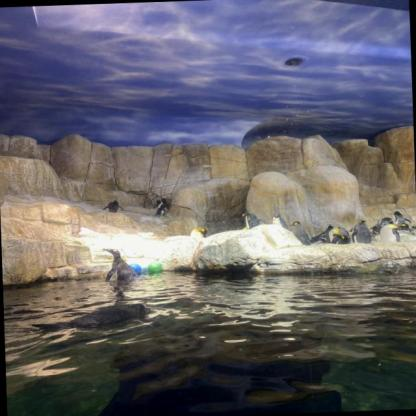penguin: (32, 302, 152, 338), (102, 247, 136, 283), (378, 222, 412, 243), (240, 210, 266, 230), (290, 220, 309, 244), (351, 220, 370, 244), (372, 216, 394, 235), (152, 197, 170, 216), (307, 230, 329, 244), (336, 223, 350, 244), (394, 210, 410, 226), (323, 223, 335, 244), (104, 200, 122, 213), (272, 212, 286, 228), (190, 226, 208, 238), (411, 223, 415, 232)
